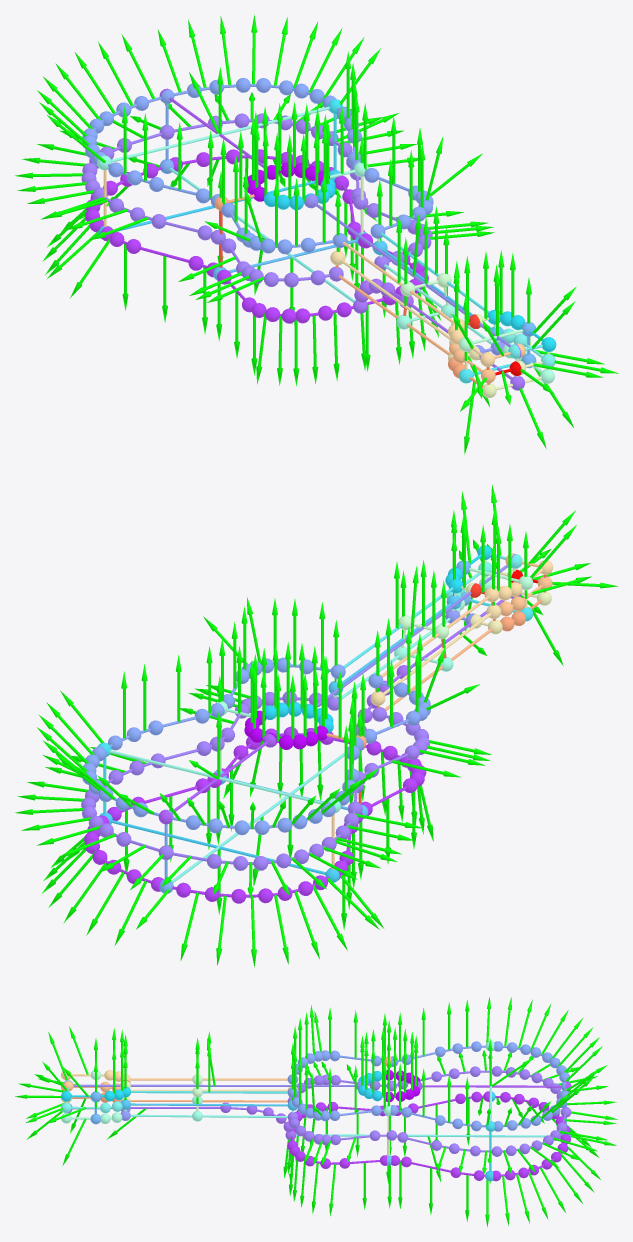
File: t2f_guitar.gltf
3 views of the same model, one above another, from view 1: azimuth 30°, elevation 25°; view 2: azimuth 150°, elevation 25°; view 3: azimuth 270°, elevation 25° (orthographic). The views are drawn at different scales.
Size of the model in its own units: 0.5507 by 0.3039 by 1.13.
